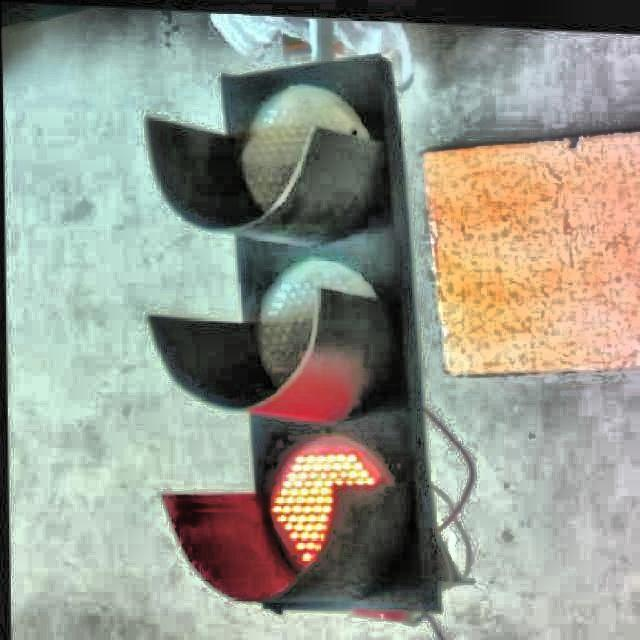red: (208, 76, 448, 604)
